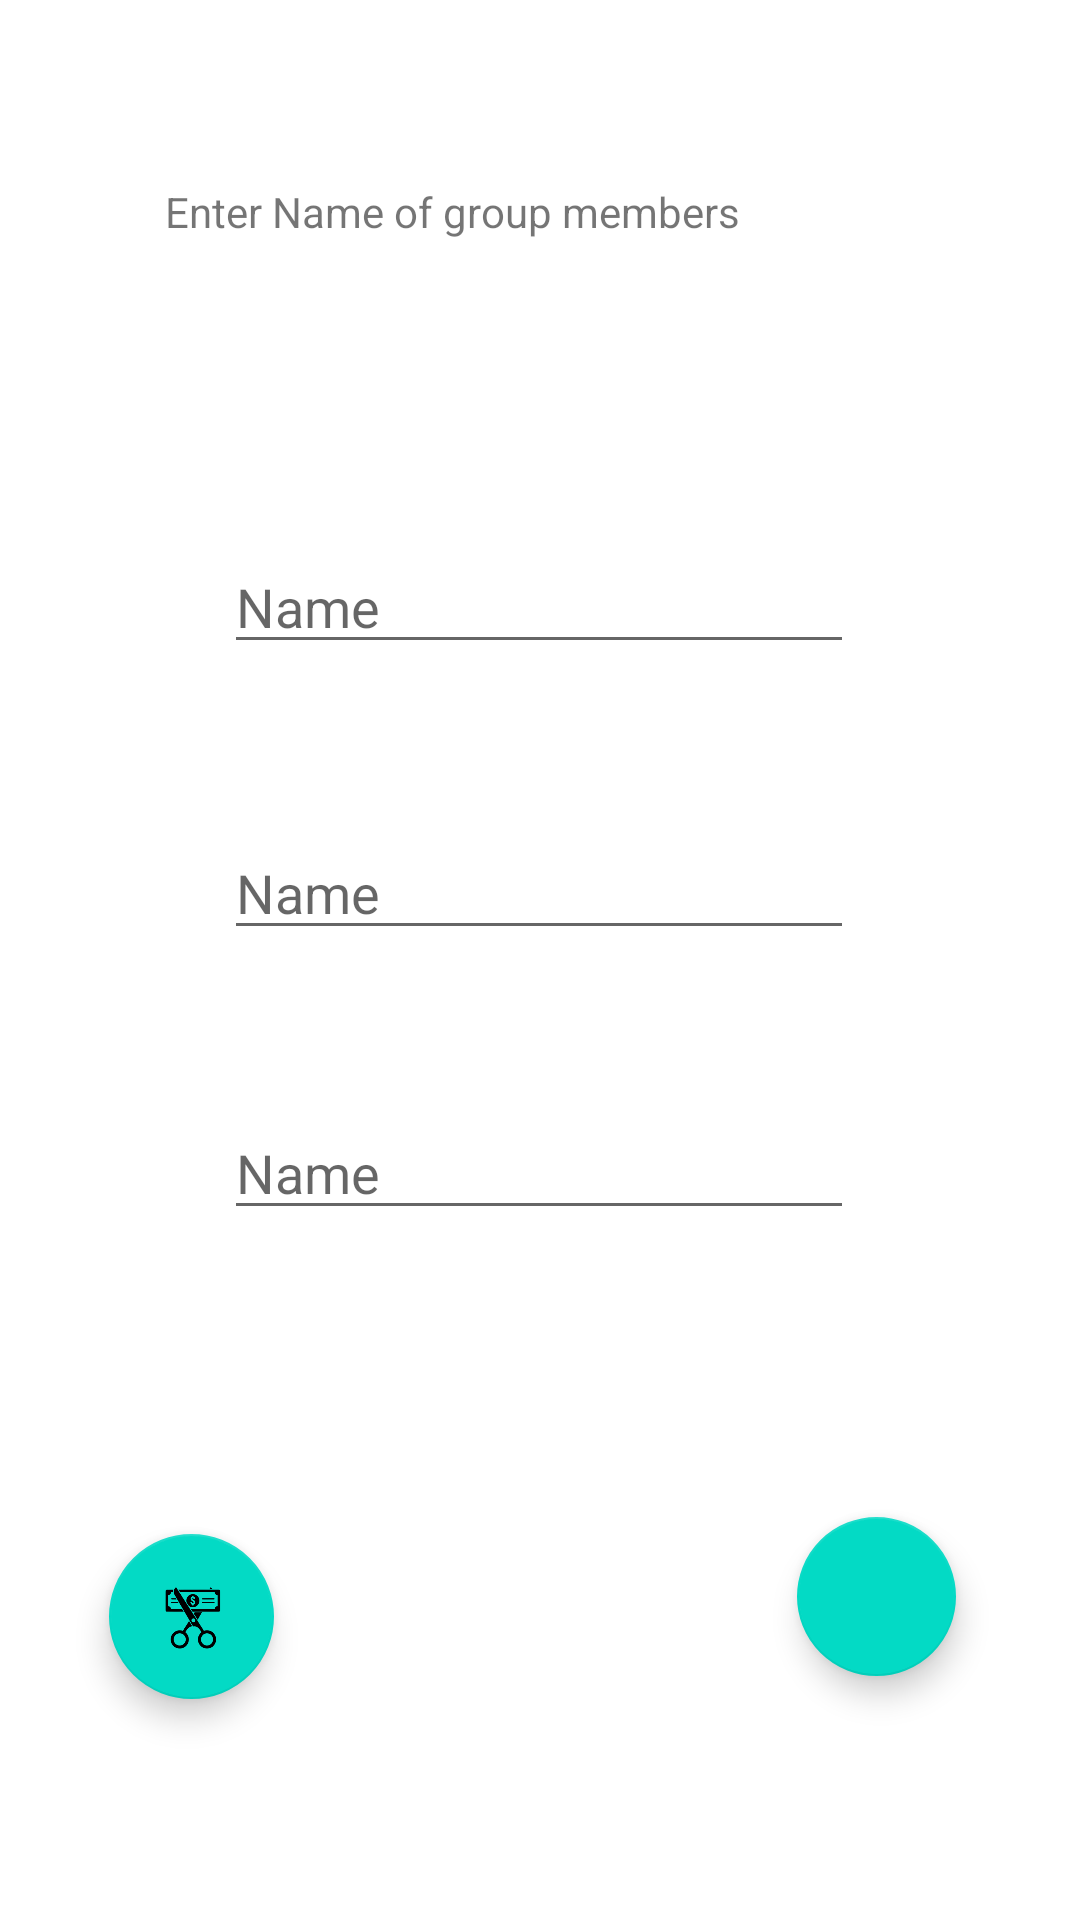

Icons on this 1080*1920 Android screen, each with its box as Rect(x1, y1, x2, y2):
split: Rect(109, 1534, 274, 1699)
